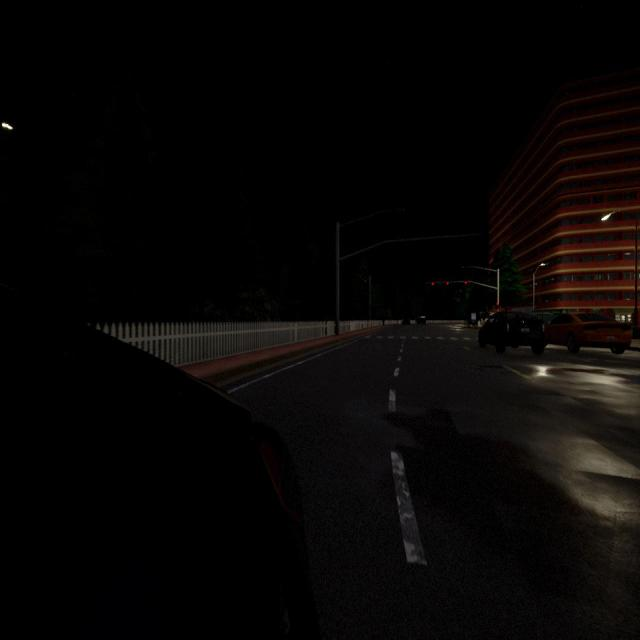Vehicle: (0, 288, 325, 640), (547, 311, 632, 354), (479, 311, 546, 354), (401, 316, 411, 327), (417, 316, 426, 325)
traffic_light: (496, 302, 499, 310), (431, 282, 434, 289), (446, 282, 449, 288), (465, 281, 467, 288)
